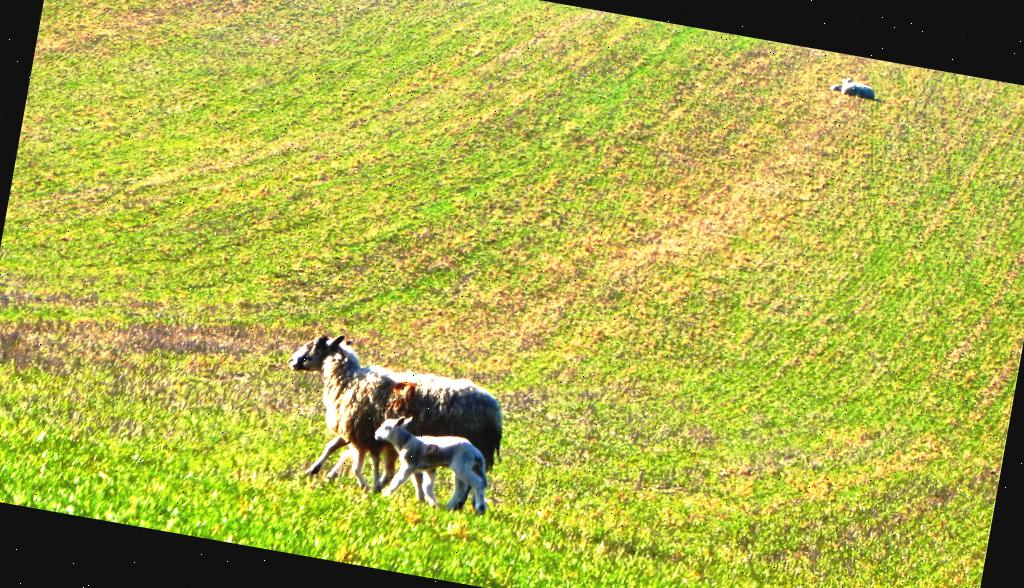Sheep: (270, 326, 518, 506), (362, 410, 500, 518)
